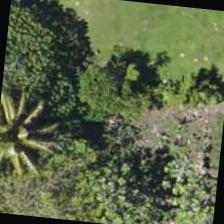Kelapa_Sawit: (0, 89, 58, 185)
